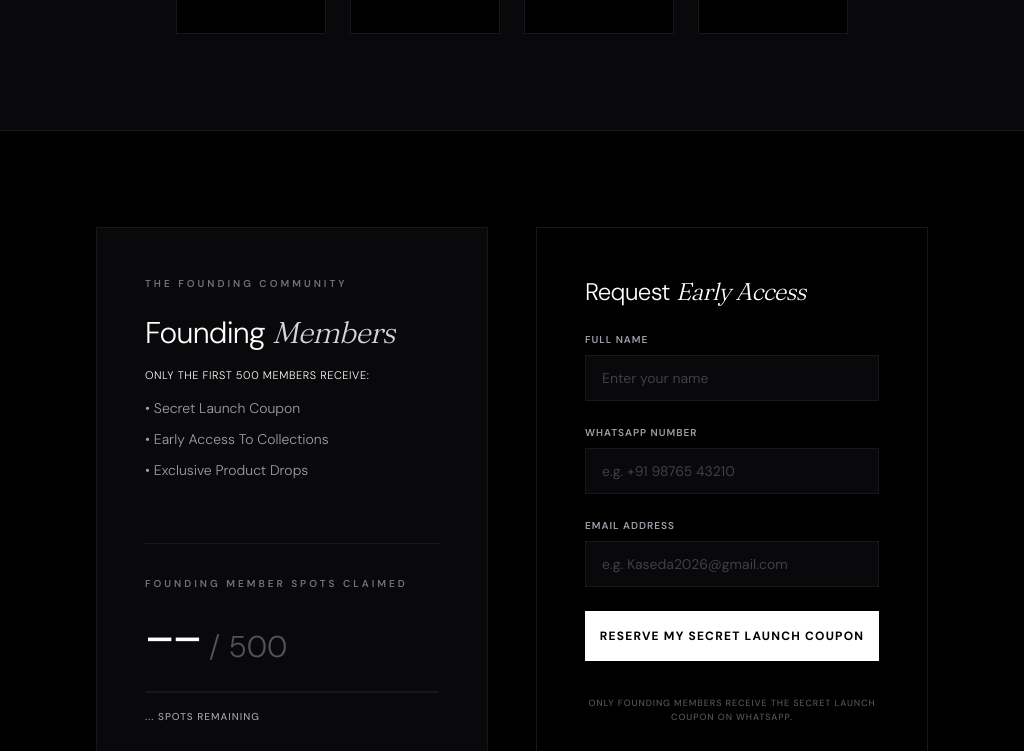
Test: Home Page Unit Tests › Registration Form Validation & State › displays validation error for short name
(page scrolled)
Type "A" into the field labelled "Full Name" at (732, 378), box [585, 355, 879, 401]
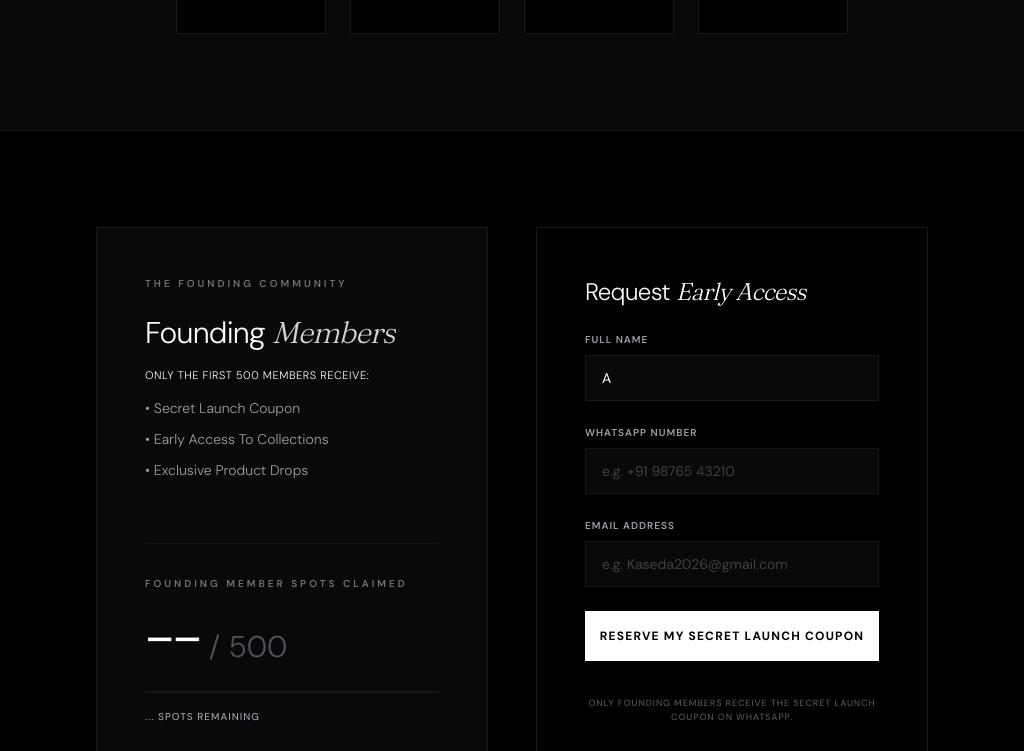
Type "+919876543210" into the field labelled "WhatsApp Number" at (732, 471), box [585, 448, 879, 494]
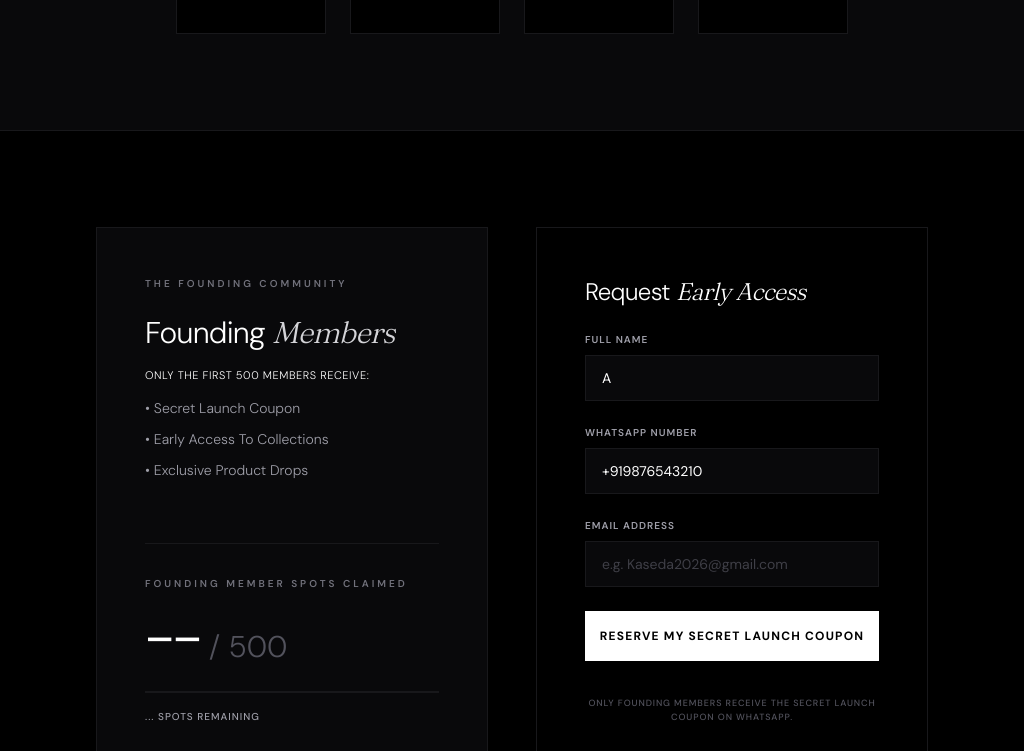
Type "test@example.com" into the field labelled "Email Address" at (732, 564), box [585, 541, 879, 587]
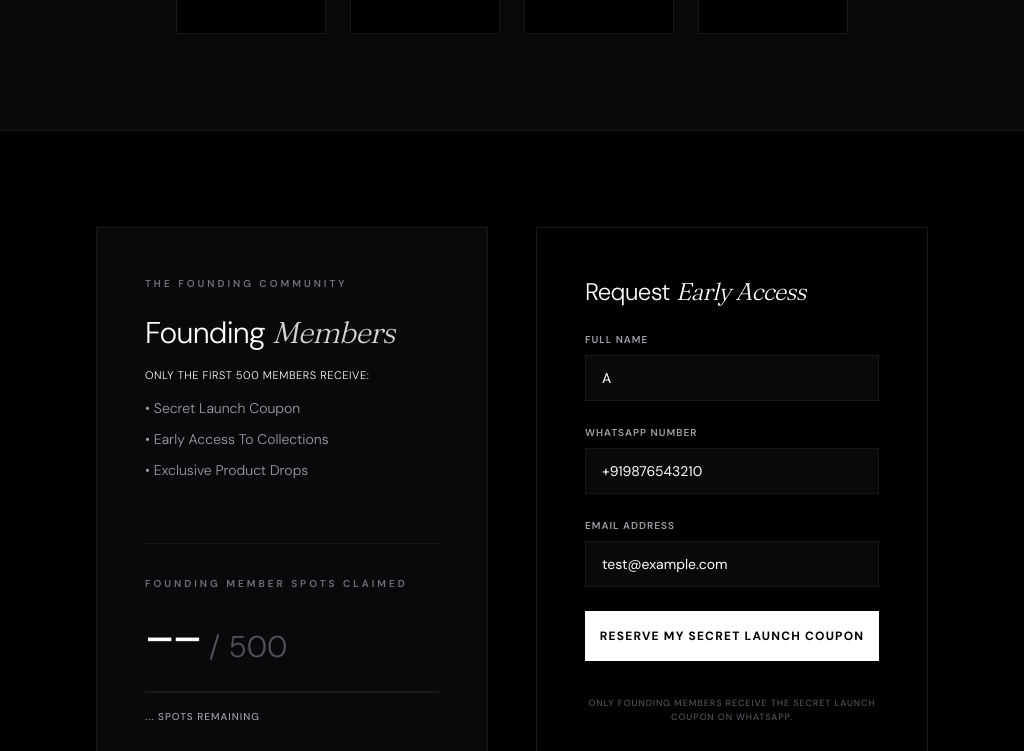
Submit the text "Reserve My Secret Launch Coupon", box [585, 332, 879, 724]
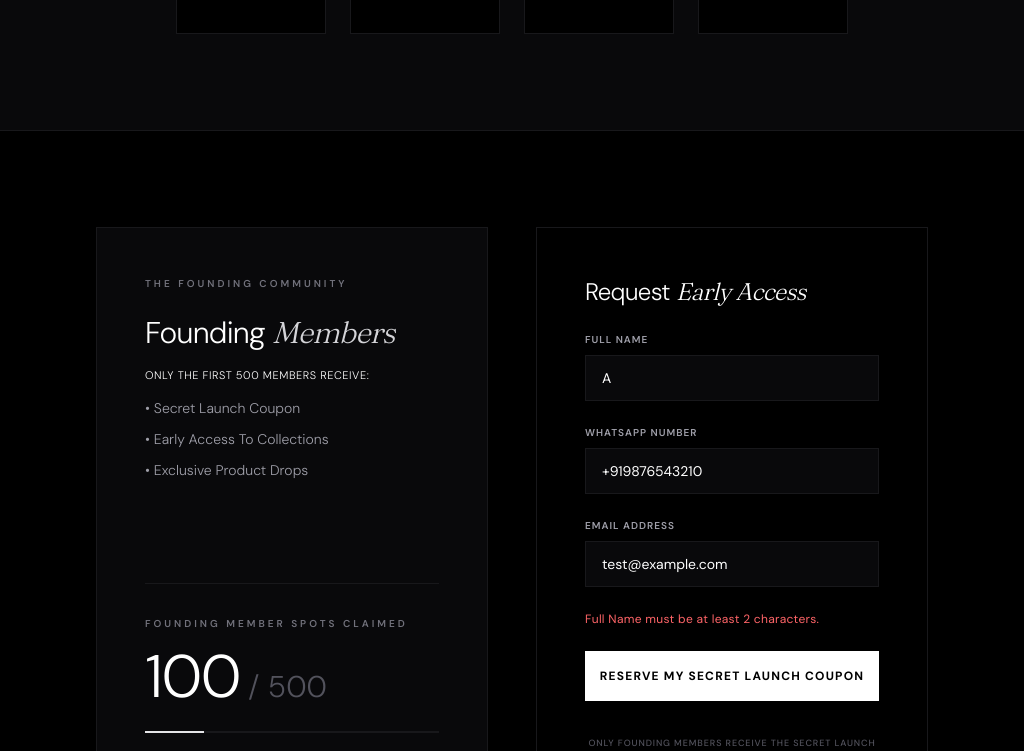
Now the text "Full Name must be at least 2 characters." is shown, box [585, 611, 819, 627]
